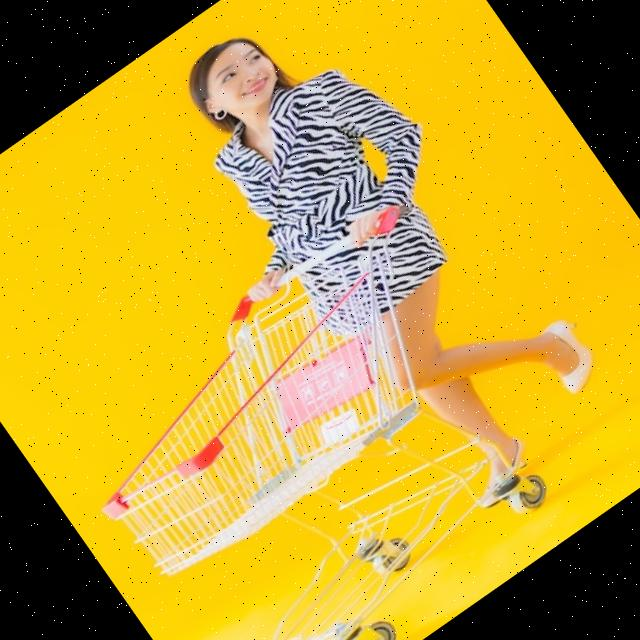Person: (117, 0, 635, 554)
